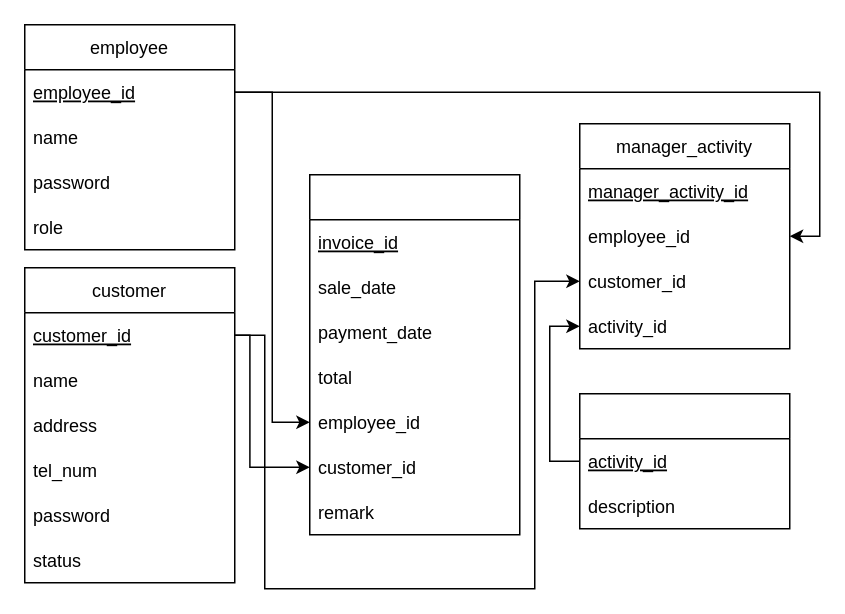
Image size: 845x614. Some labels were removed from this diagram. The shapes that lost their labels are listed below. From the top down, each one's box as (x1, y1, x2, y2) in pixels, then its label:
(308, 173, 520, 535): sale_invoice
(578, 392, 790, 529): activitytype
